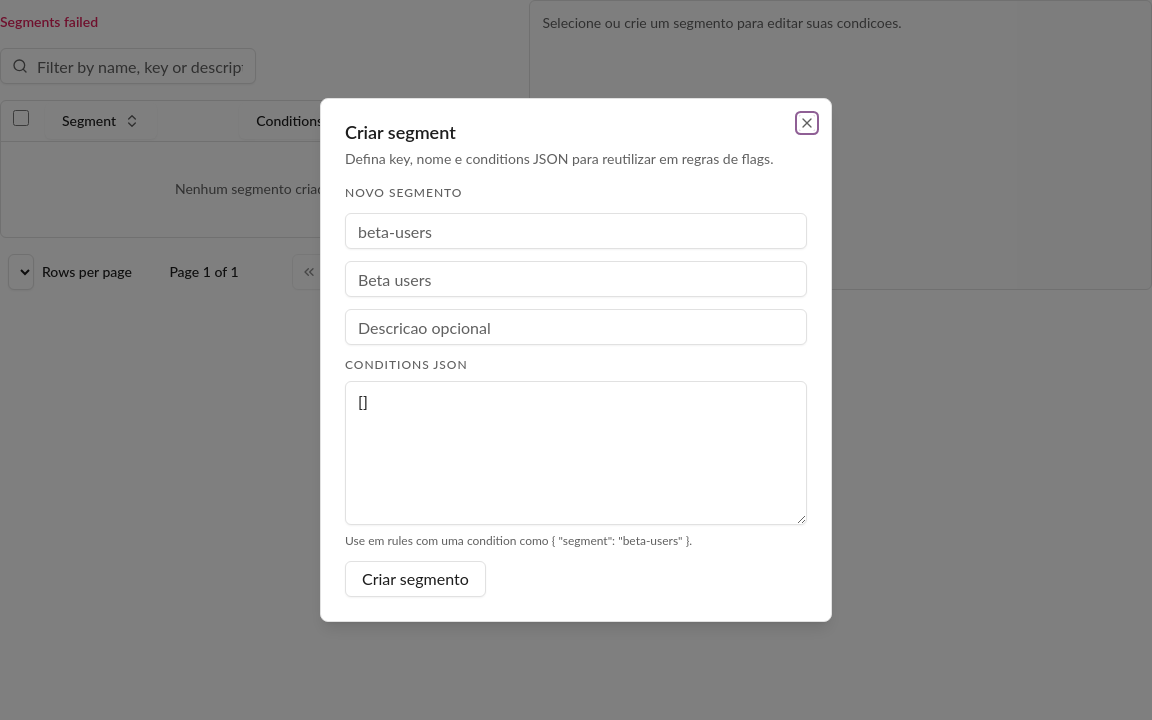
it: Segments integration › shows segment query and create errors
Expected: the text "Segments failed" is shown, x1=0 y1=13 x2=98 y2=30
Type "internal-users" into the field with placeholder "beta-users" at point(576, 231), box x1=345 y1=213 x2=807 y2=249
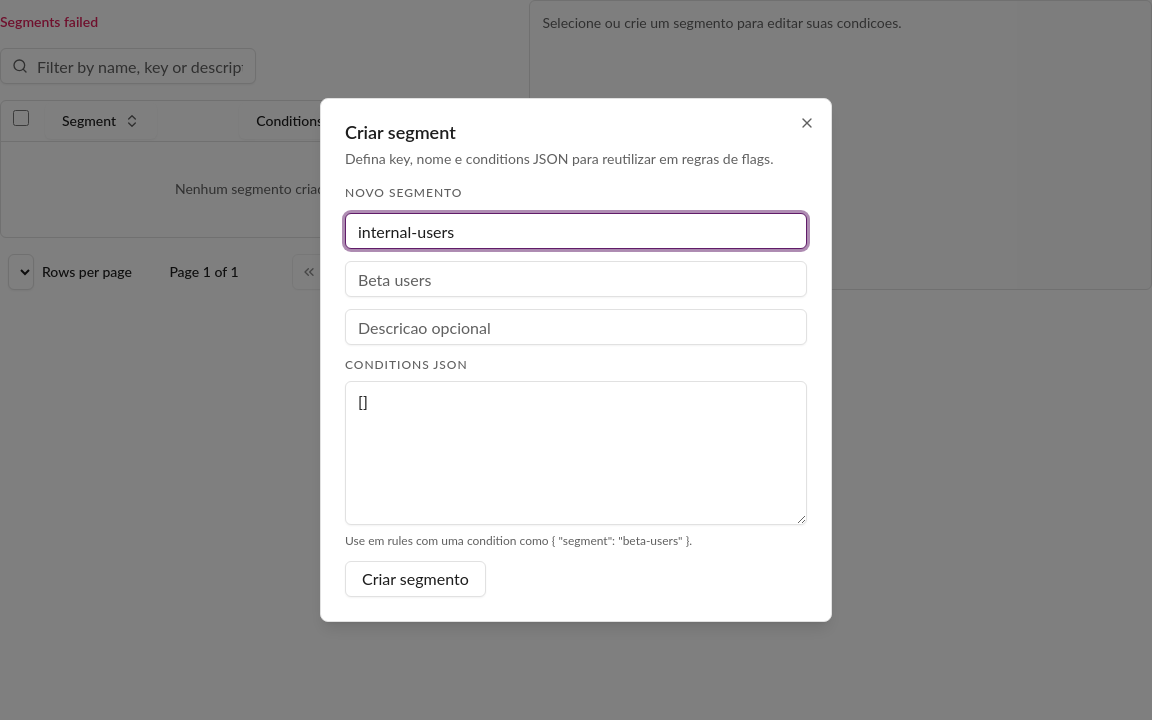
Type "Internal users" into the field with placeholder "Beta users" at point(576, 279), box x1=345 y1=261 x2=807 y2=297
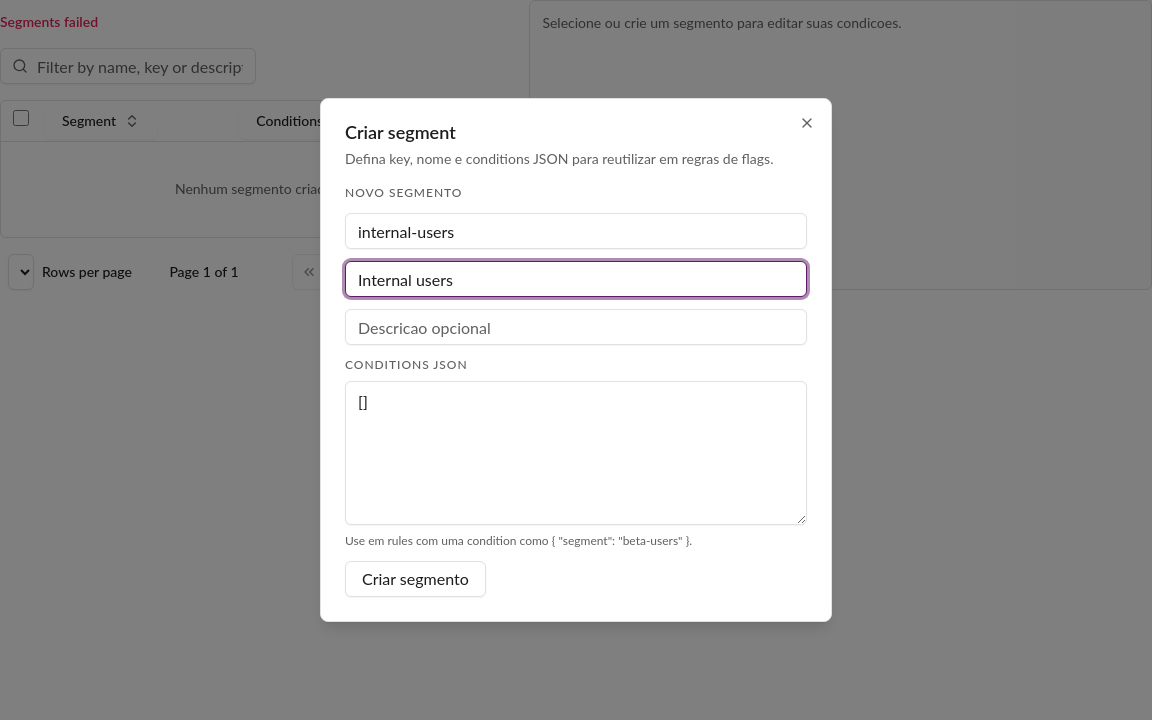
Click the button "Criar segmento" at point(415, 579), box x1=345 y1=561 x2=486 y2=597
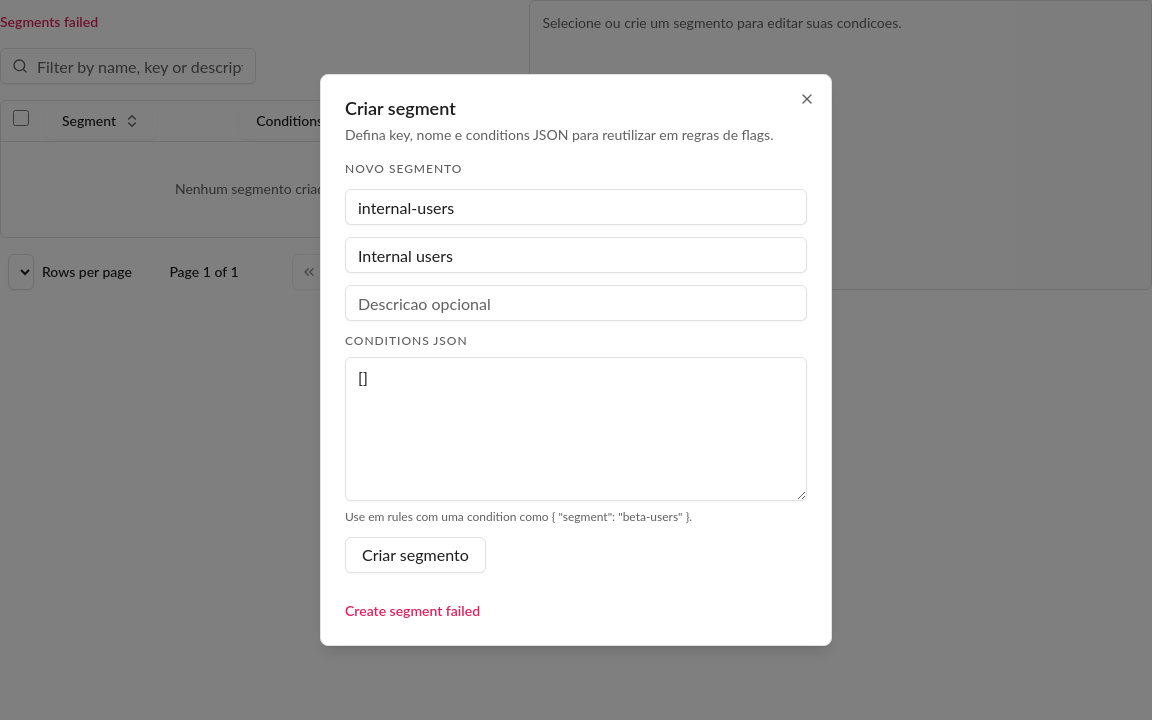
Now the text "Create segment failed" is shown, box x1=345 y1=602 x2=480 y2=619
